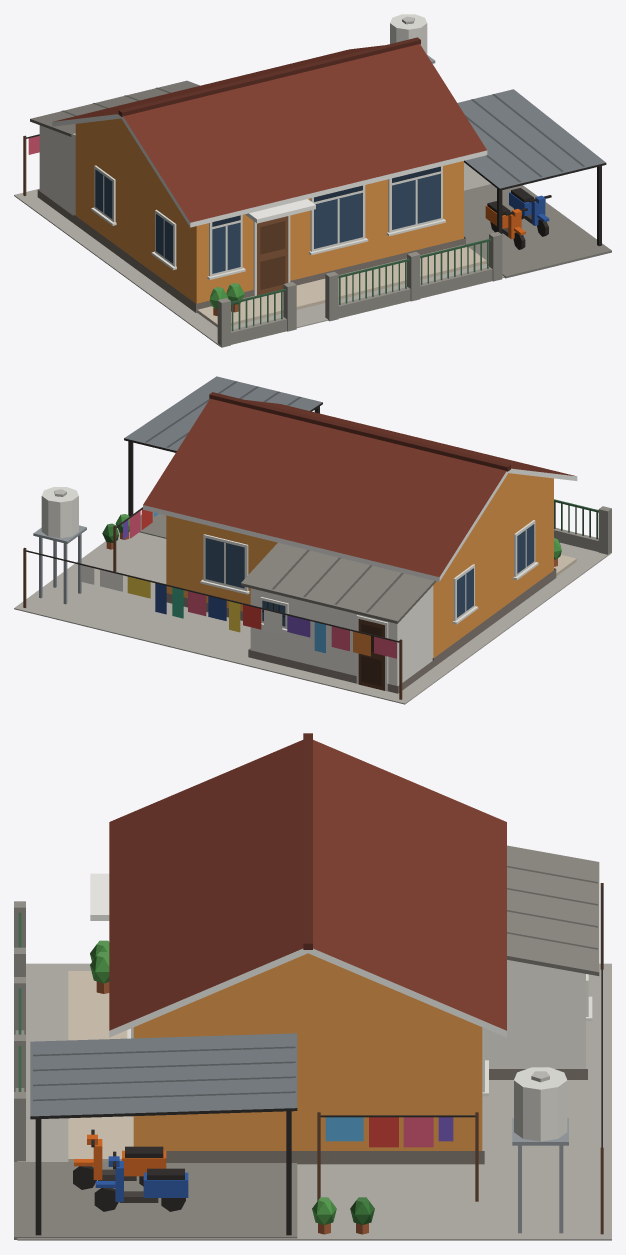
File: rumah_11.glb
The picture shows the model from 3 angles, top to bottom: view 1: azimuth 30°, elevation 25°; view 2: azimuth 150°, elevation 25°; view 3: azimuth 270°, elevation 25°; orthographic projection. The views are drawn at different scales.
Parts seen in each view (by area): view 1: rumah_11; view 2: rumah_11; view 3: rumah_11.
Part boxes in pixels (x1,y1,x2,y2): rumah_11: (14, 14, 611, 347); rumah_11: (14, 376, 611, 704); rumah_11: (14, 733, 611, 1240).
Size of the model in its own units: 11.96 by 4.71 by 10.98.
